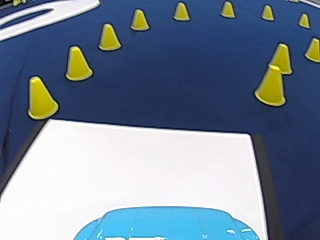cone: (26, 74, 59, 118), (253, 62, 286, 105), (64, 44, 92, 80), (268, 42, 293, 74), (97, 22, 121, 50), (130, 8, 149, 31), (304, 37, 320, 61), (173, 2, 189, 21), (219, 1, 235, 18), (260, 4, 274, 20), (297, 12, 310, 28)
